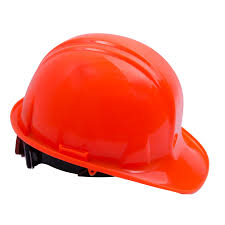Casco de seguridad: (10, 31, 213, 200)
